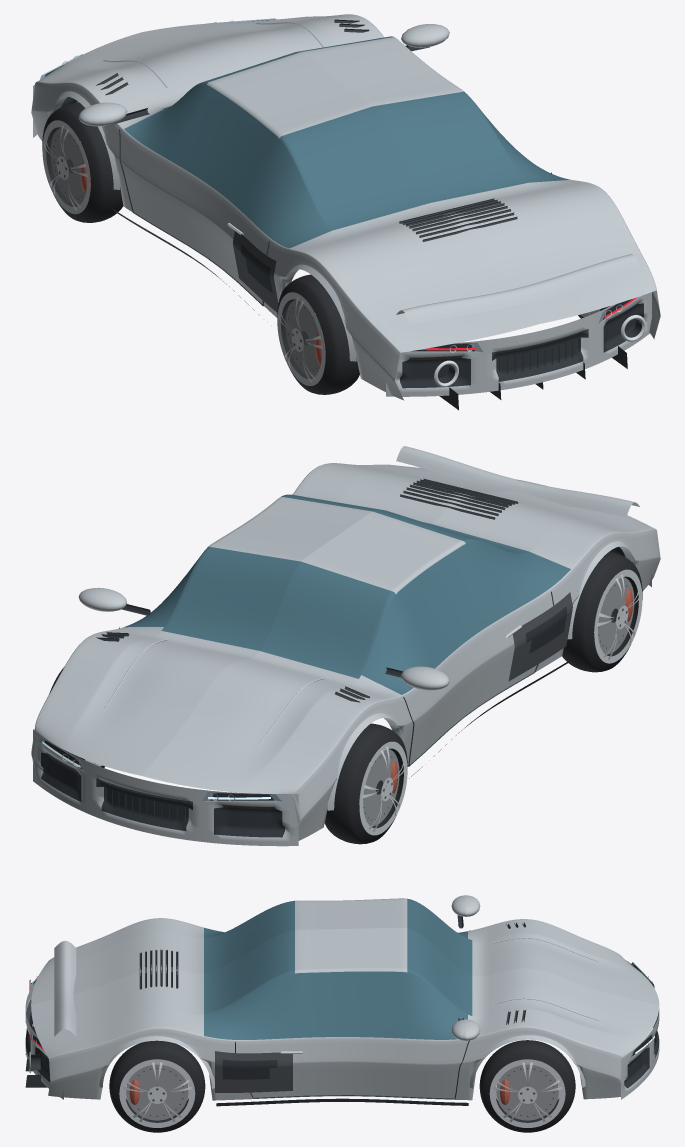
Rendered from apex_rs.glb.
3 views of the same model, one above another, from view 1: azimuth 30°, elevation 25°; view 2: azimuth 150°, elevation 25°; view 3: azimuth 270°, elevation 25° (orthographic). The views are drawn at different scales.
Parts seen in each view (by area): view 1: Body, Wheel_2, Wheel_0; view 2: Body, Wheel_0, Wheel_2; view 3: Body, Wheel_1, Wheel_3.
Part boxes in pixels (x1,y1,x2,y2): Body: [31, 14, 660, 410]; Wheel_2: [277, 274, 359, 394]; Wheel_0: [42, 102, 123, 222]; Body: [31, 446, 660, 846]; Wheel_0: [324, 723, 407, 844]; Wheel_2: [562, 552, 642, 672]; Body: [25, 895, 659, 1106]; Wheel_1: [479, 1040, 575, 1132]; Wheel_3: [109, 1040, 205, 1132].
Bounding box in the file's own units: 2.44 × 1.19 × 4.79.
